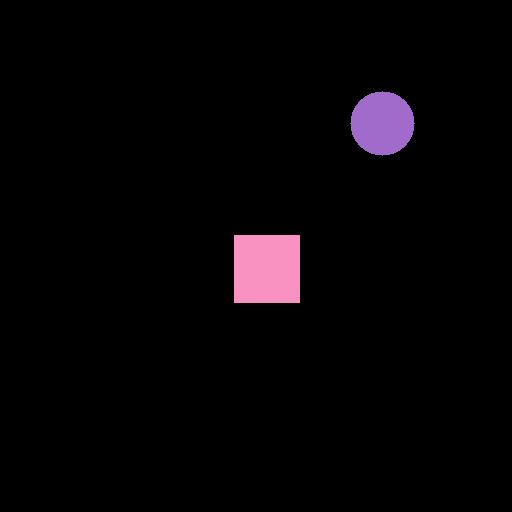circle: (350, 91, 414, 155)
square: (234, 235, 299, 302)
